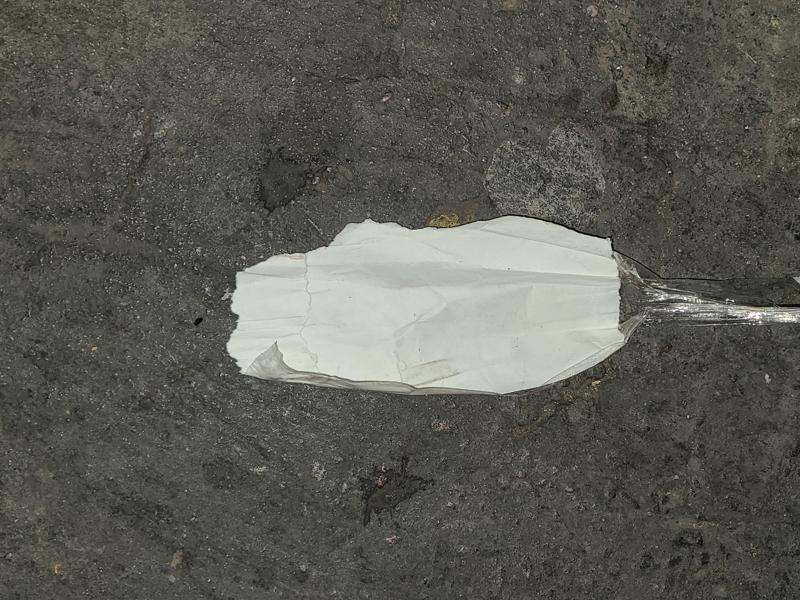papel: (225, 216, 639, 397)
